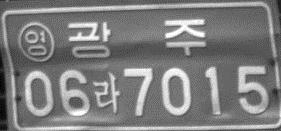0: (159, 66, 192, 117), (22, 70, 54, 118)
1: (199, 65, 230, 116)
5: (236, 64, 269, 115)
6: (58, 69, 90, 118)
7: (122, 66, 154, 117)
광주_D: (67, 18, 206, 60)
라: (92, 71, 121, 114)
영: (16, 20, 55, 62)
